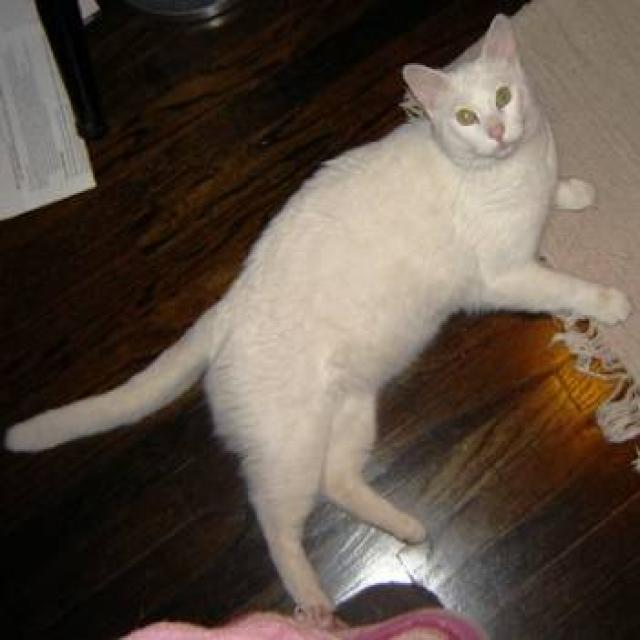Cat: (399, 14, 534, 180)
